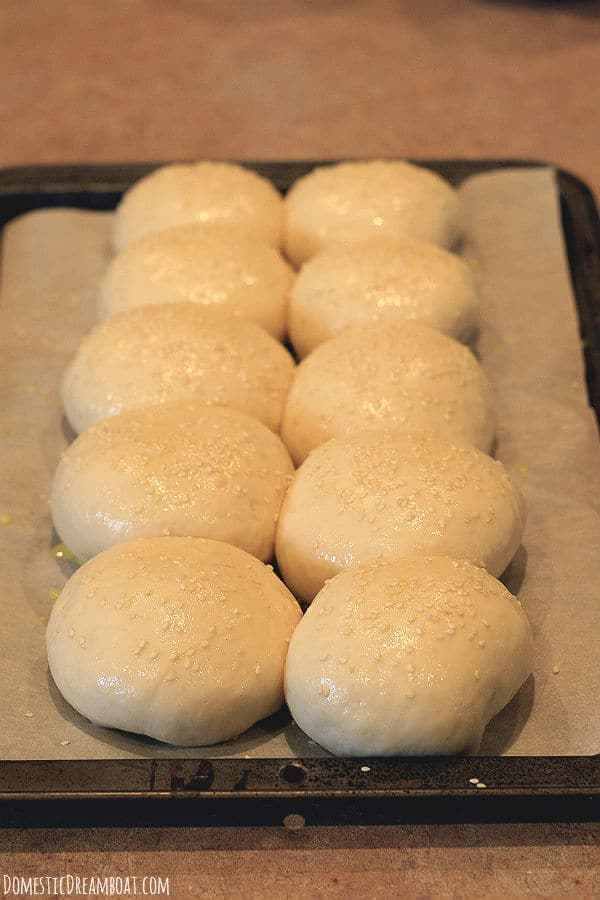hamburger_buns: (95, 124, 525, 805)
